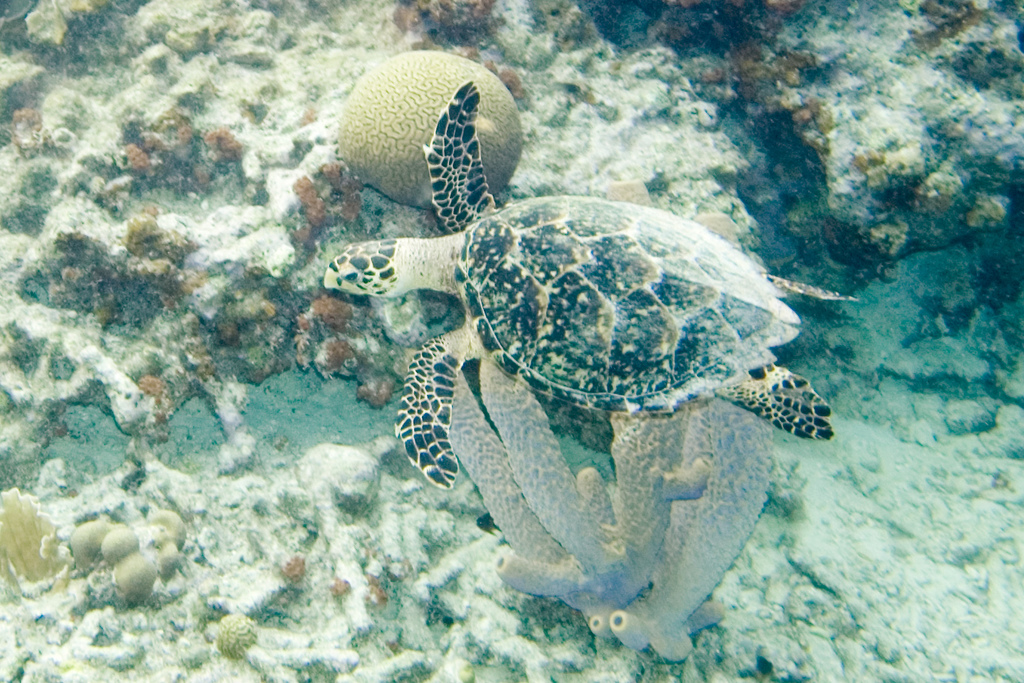Sea turtles: (318, 85, 859, 489)
